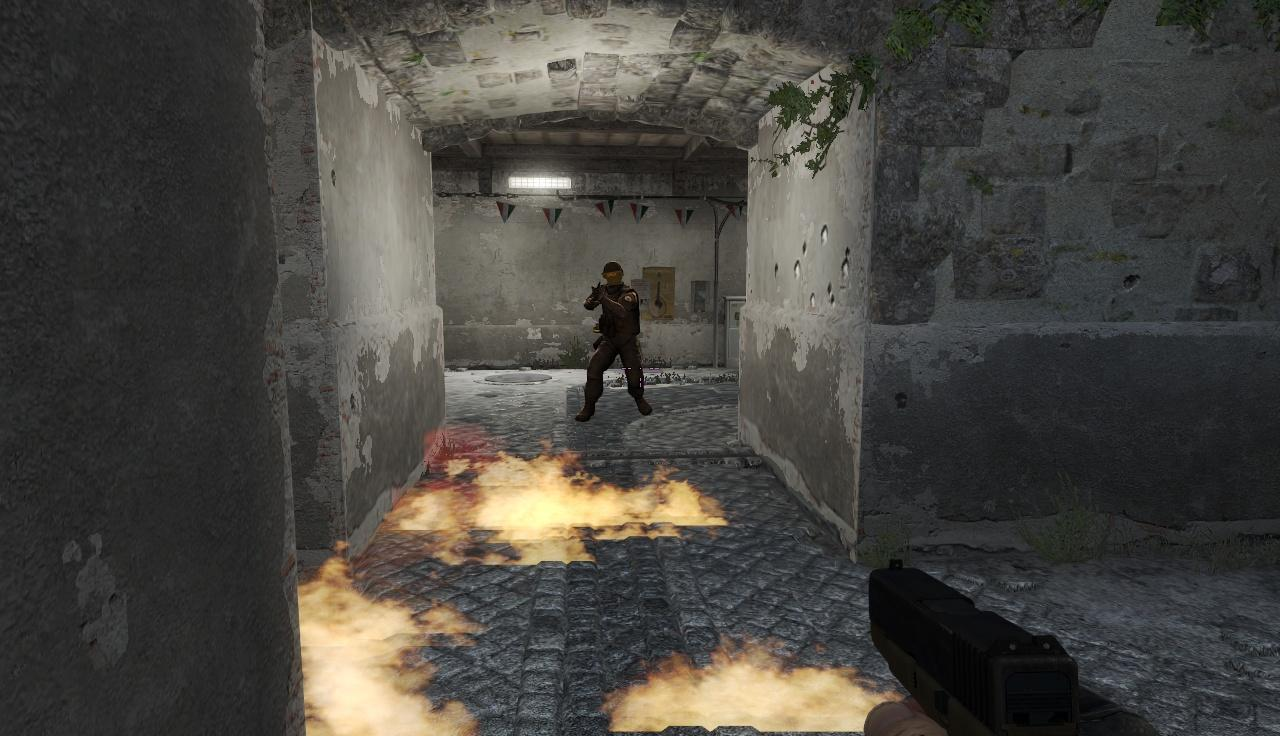ct: (586, 260, 644, 413)
cthead: (603, 261, 625, 287)
pistol: (863, 559, 1107, 736)
